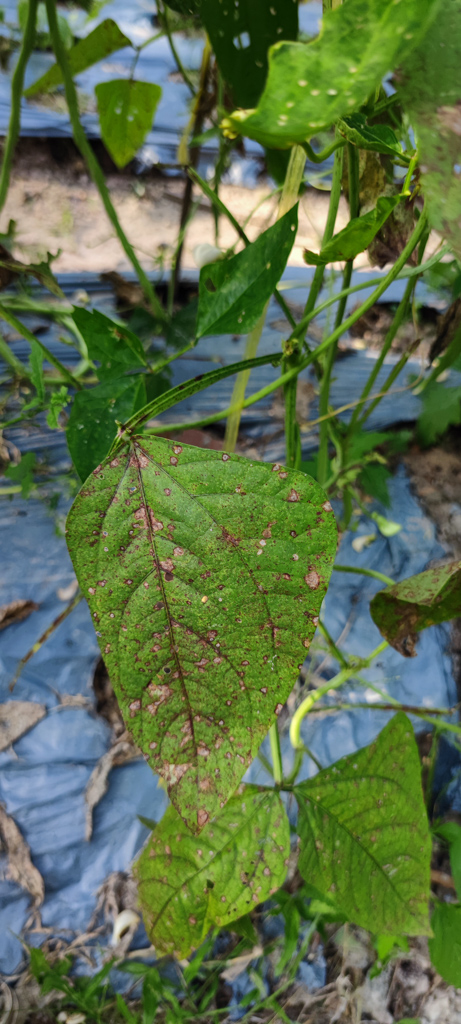Rust: (56, 435, 340, 829), (298, 729, 438, 942), (136, 782, 285, 968), (364, 553, 455, 665)
